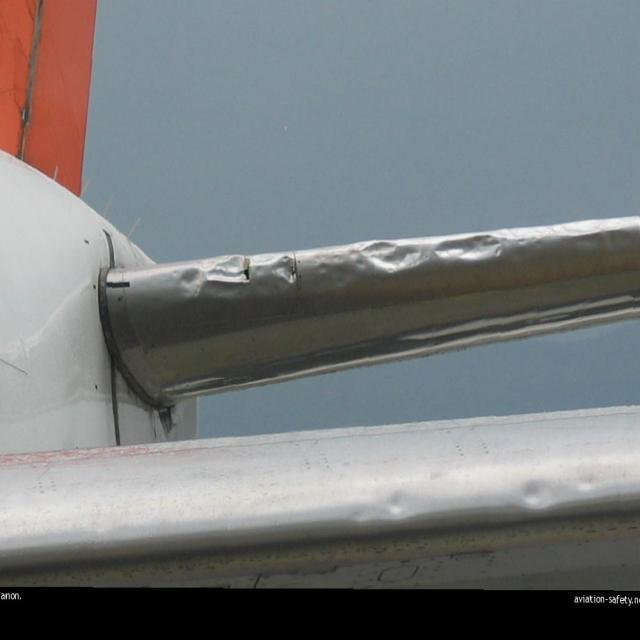dent: (357, 235, 426, 288), (182, 255, 256, 301), (425, 230, 510, 267), (267, 249, 303, 292), (521, 474, 558, 511), (385, 490, 408, 522), (575, 468, 599, 493)
